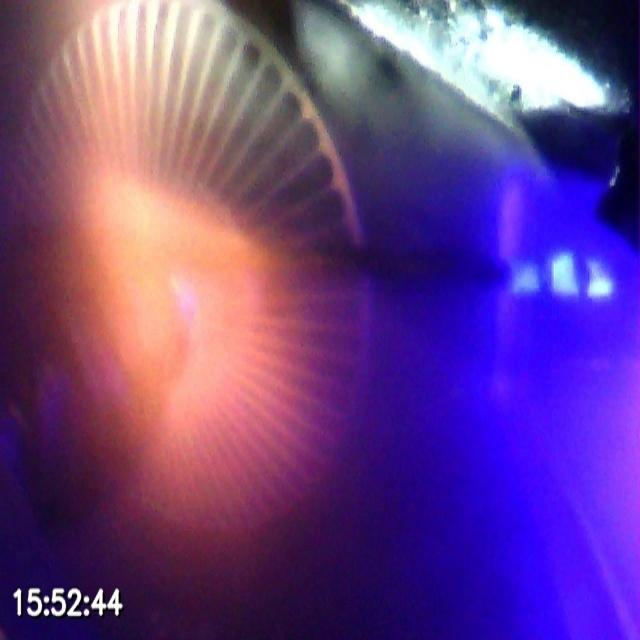white-dots: (509, 249, 615, 303)
